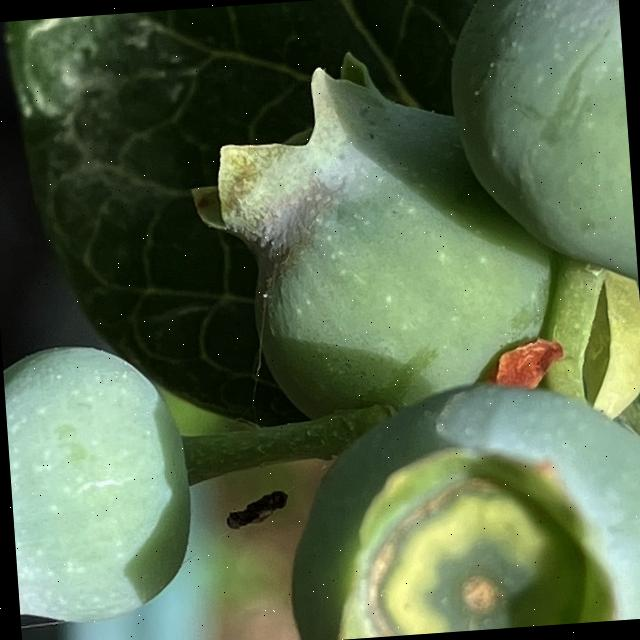Blueberries: (271, 367, 640, 640), (441, 0, 638, 303)
